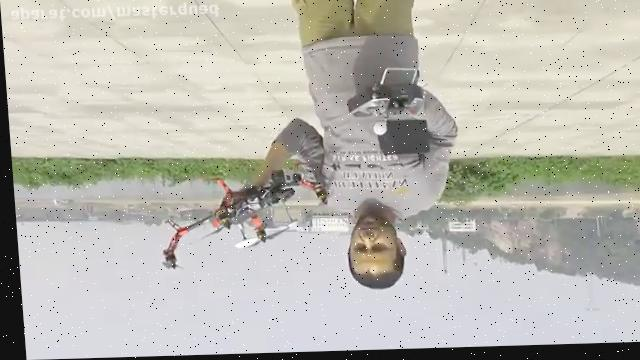drone: (149, 167, 331, 277)
